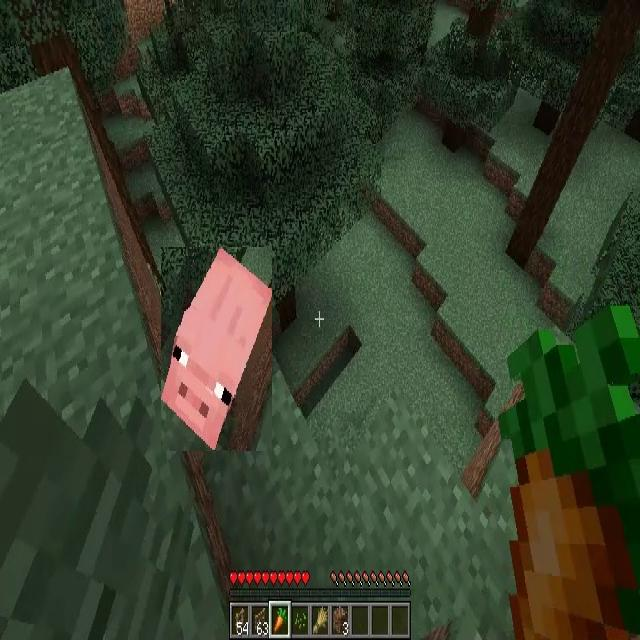pig: (161, 247, 272, 451)
